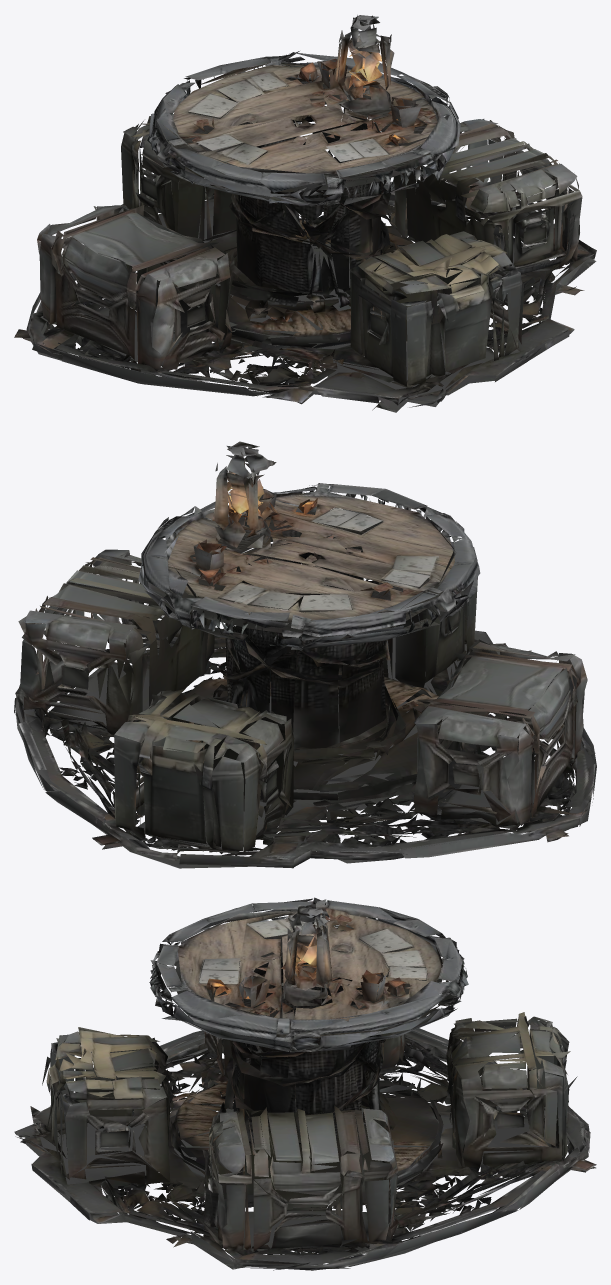
Rendered from life_card_table.glb.
3 renders of one model, top to bottom at view 1: azimuth 30°, elevation 25°; view 2: azimuth 150°, elevation 25°; view 3: azimuth 270°, elevation 25°, orthographic. The views are drawn at different scales.
Parts seen in each view (by area): view 1: node_0; view 2: node_0; view 3: node_0.
Boxes of the visible parts, left/top/right/bottom form: node_0: left=14, top=15, right=596, bottom=412; node_0: left=14, top=441, right=596, bottom=868; node_0: left=14, top=897, right=596, bottom=1270.
Bounding box in the file's own units: 1.05 × 0.5281 × 1.
1 material, 1 textured.
